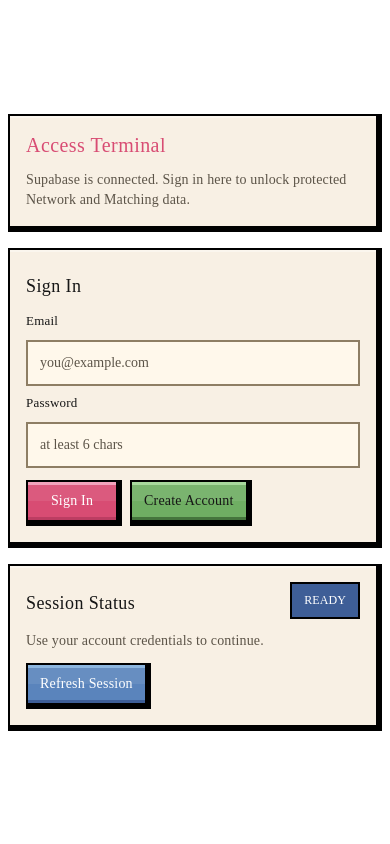
Test: AuthRequiredView › shows validation error when password is too short
Type "user@example.com" into the field with placeholder "you@example.com" at (193, 362), box [26, 340, 360, 386]
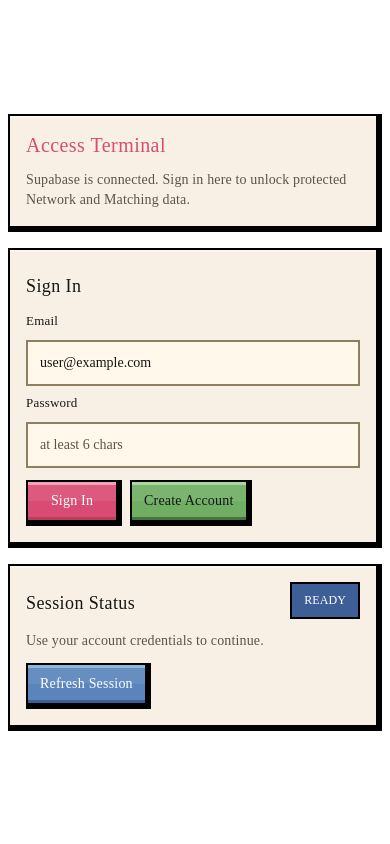
Type "123" into the password field with placeholder "at least 6 chars" at (193, 444), box [26, 422, 360, 468]
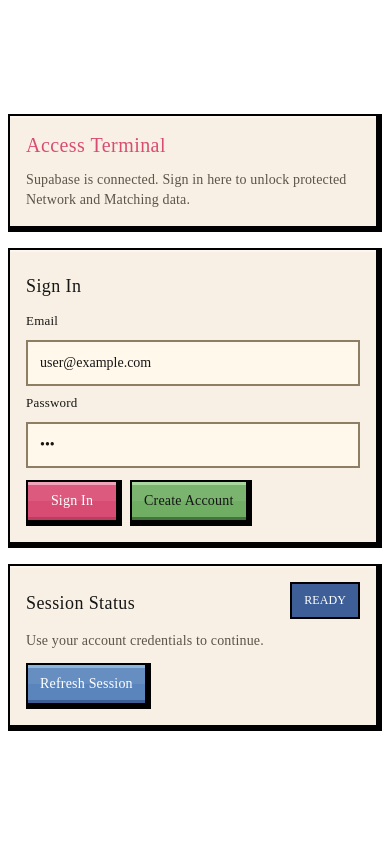
Click the button with test id "auth-signin" at (74, 502), box [26, 480, 122, 526]
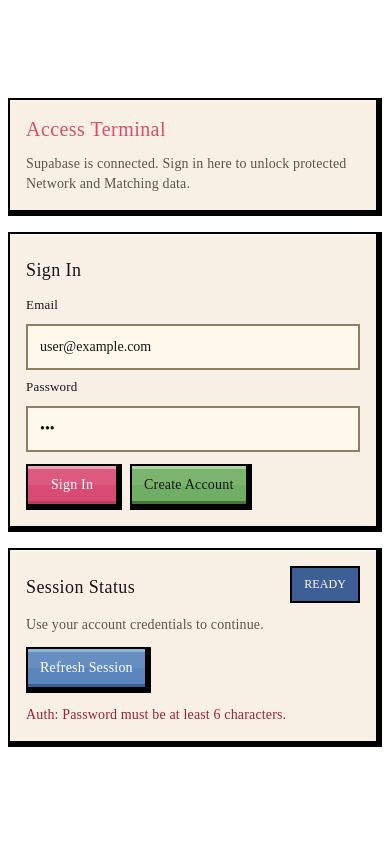
Now the text "Auth: Password must be at least 6 characters." is shown, box [26, 706, 286, 722]
